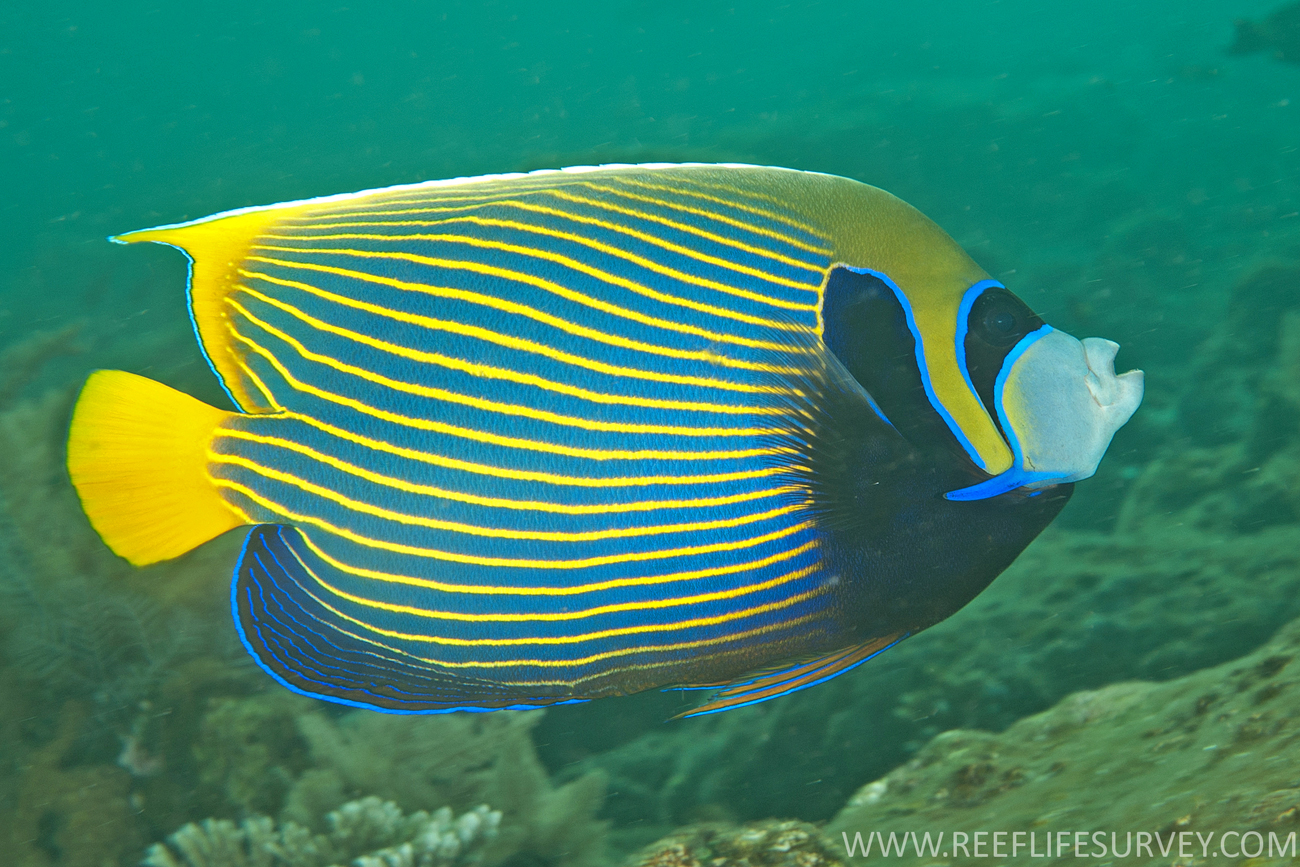Pomacanthus_imperator: (32, 126, 1189, 770)
